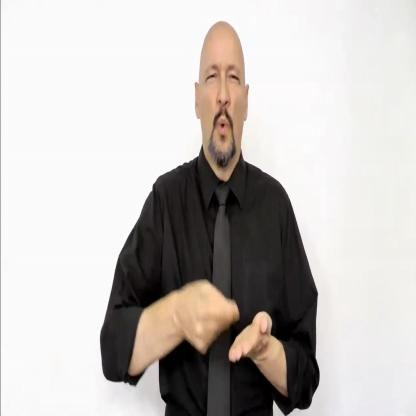Expensive: (171, 258, 272, 387)
